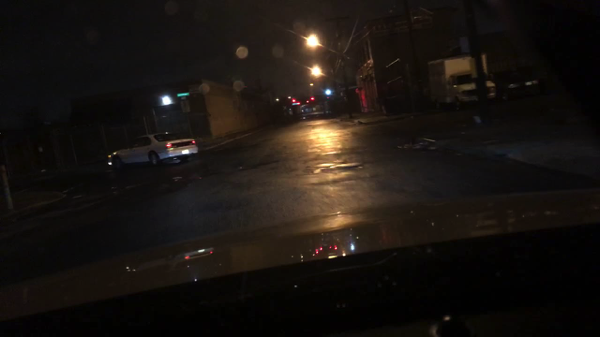car: (105, 132, 201, 172), (493, 68, 550, 104)
traffic light: (309, 96, 316, 102), (290, 98, 296, 103), (296, 100, 300, 106)
traffic sign: (186, 82, 201, 96), (180, 99, 191, 115)
truck: (426, 52, 496, 114)
